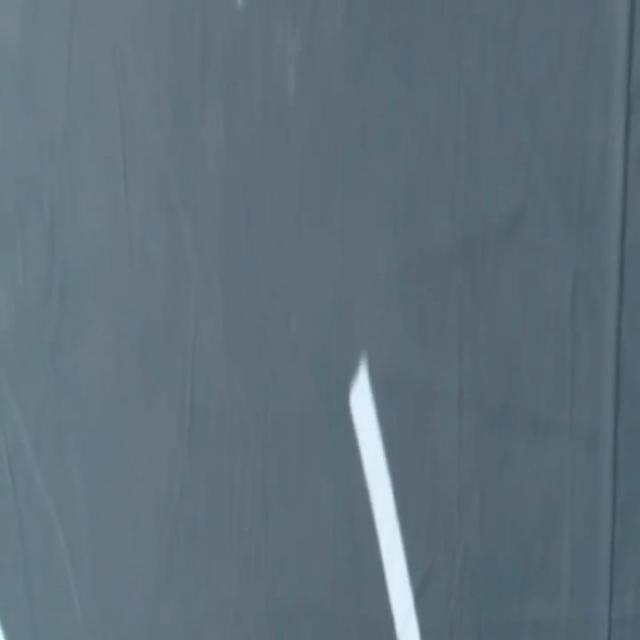center: (349, 354, 420, 639)
left: (0, 621, 5, 639)
